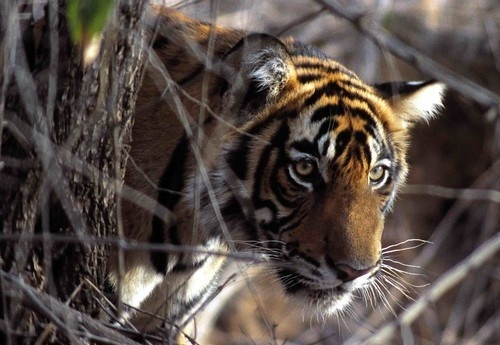tigre: (120, 1, 446, 317)
